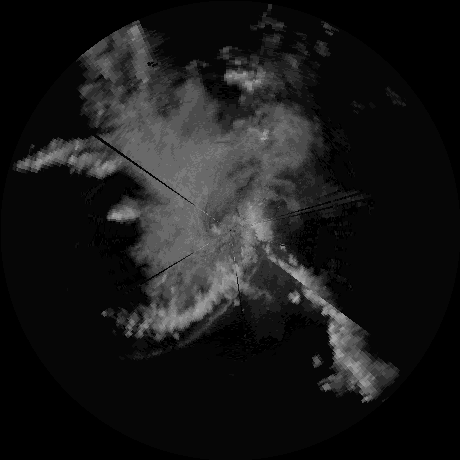frontgust: (139, 299, 235, 358), (246, 252, 266, 282)
